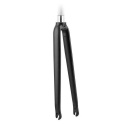fork: (37, 2, 84, 125)
